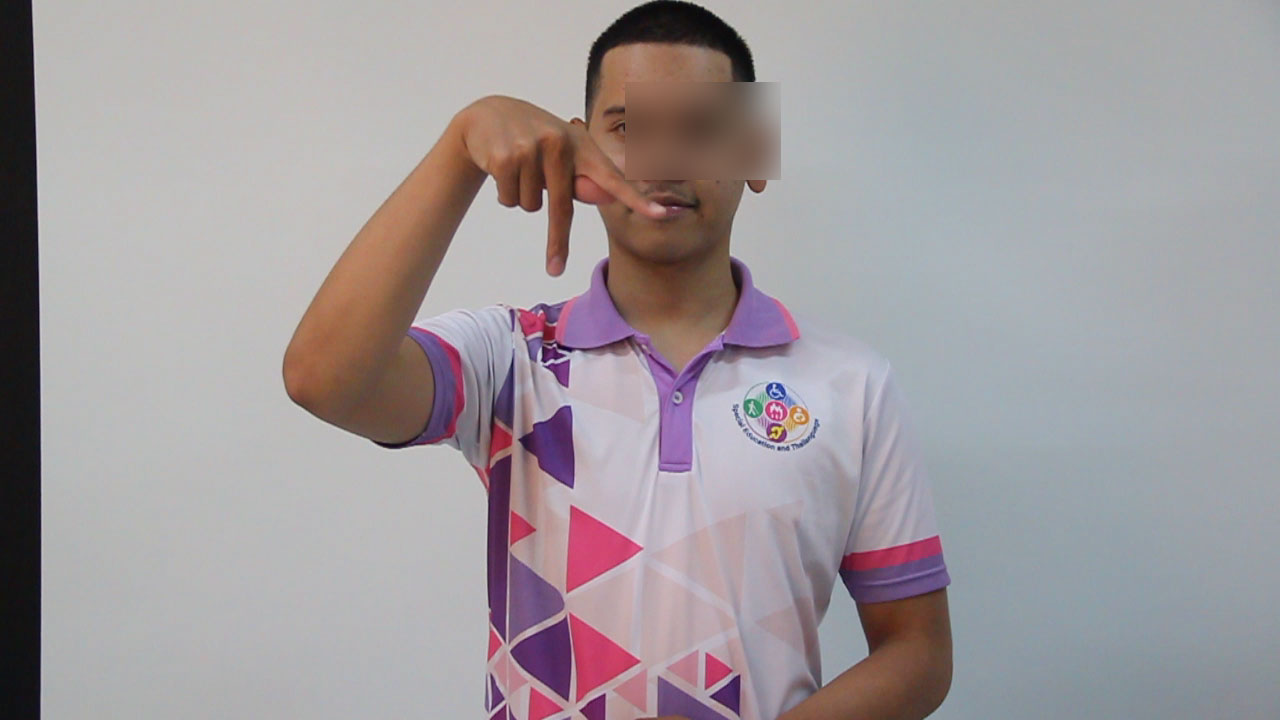por: (438, 75, 681, 286)
